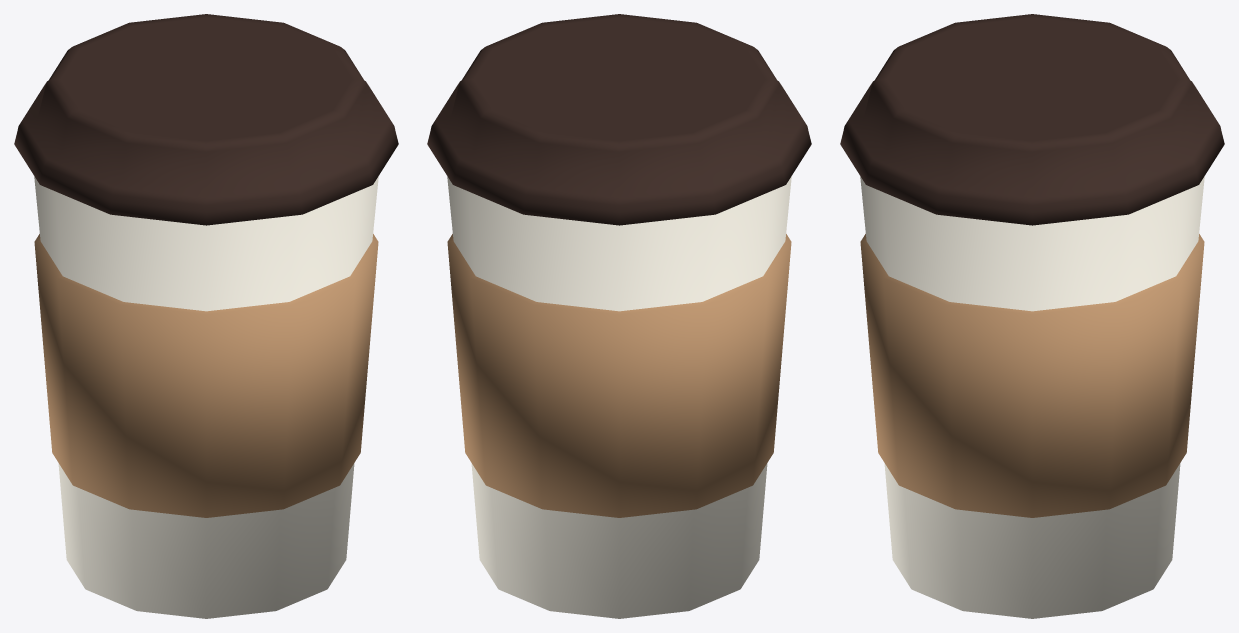
The model's file is latte.fbx.
The picture shows the model from 3 angles, left to right: view 1: azimuth 30°, elevation 25°; view 2: azimuth 150°, elevation 25°; view 3: azimuth 270°, elevation 25°; orthographic projection.
Parts seen in each view (by area): view 1: lattebody, lattelid; view 2: lattebody, lattelid; view 3: lattebody, lattelid.
Part boxes in pixels (<box>): lattebody: <box>34,176,378,618</box>; lattelid: <box>14,14,398,225</box>; lattebody: <box>447,176,791,618</box>; lattelid: <box>427,14,811,225</box>; lattebody: <box>860,176,1204,618</box>; lattelid: <box>840,14,1224,225</box>.
Size of the model in its own units: 256 by 353 by 256.
